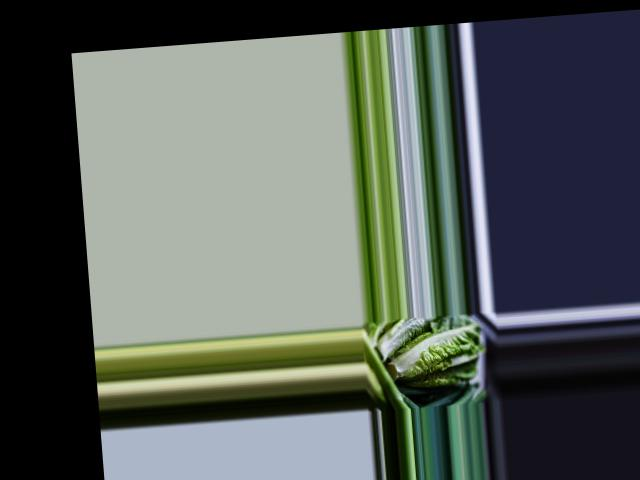lettuce: (383, 322, 486, 392)
